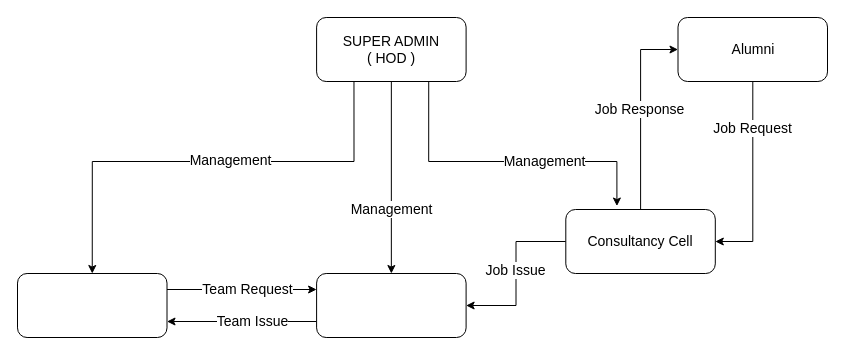
The diagram is 845 pixels wide and 355 high, and some of its shapes have lost their labels. The centre of each missing label's shape, as x and y in pixels:
MENTOR: (x=391, y=305)
STUDENT: (x=91, y=305)
